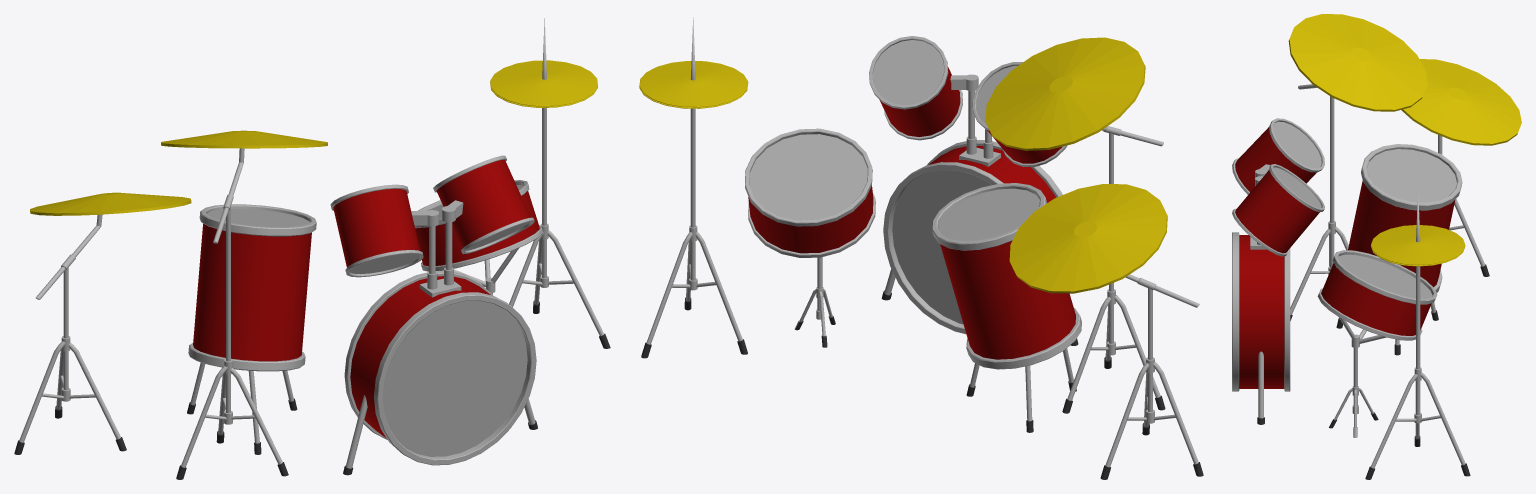
The model's file is drum_grouped1.fbx.
The picture shows the model from 3 angles, left to right: view 1: azimuth 30°, elevation 25°; view 2: azimuth 150°, elevation 25°; view 3: azimuth 270°, elevation 25°; orthographic projection. The views are drawn at different scales.
Parts seen in each view (by area): view 1: pCylinder1, pCylinder9, low_tom, high_tom, pCylinder8, pCylinder23, pCylinder26, pCylinder10, pCylinder33, pCylinder5, polySurface4, pCylinder3 (+2 smaller); view 2: pCylinder9, pCylinder10, pCylinder3, pCylinder5, pCylinder1, high_tom, pCylinder8, pCylinder33, pCylinder26, pCylinder23, low_tom, polySurface4 (+2 smaller); view 3: pCylinder3, pCylinder9, pCylinder1, pCylinder10, pCylinder5, high_tom, low_tom, pCylinder8, pCylinder33, pCylinder23, pCylinder40, pCylinder26 (+1 smaller).
Boxes of the visible parts, x1,y1,x2,y2 form: pCylinder1: (344, 271, 536, 465); pCylinder9: (188, 204, 316, 371); low_tom: (330, 184, 423, 277); high_tom: (433, 155, 534, 254); pCylinder8: (490, 60, 597, 107); pCylinder23: (176, 148, 288, 479); pCylinder26: (14, 214, 126, 454); pCylinder10: (414, 180, 542, 271); pCylinder33: (509, 18, 610, 348); pCylinder5: (30, 192, 191, 215); polySurface4: (411, 200, 463, 297); pCylinder3: (161, 130, 327, 148); pCylinder9: (932, 183, 1081, 369); pCylinder10: (745, 128, 875, 257); pCylinder3: (985, 37, 1145, 150); pCylinder5: (1009, 184, 1167, 293); pCylinder1: (883, 140, 1062, 334); high_tom: (869, 36, 962, 140); pCylinder8: (639, 61, 748, 108); pCylinder33: (641, 17, 747, 358); pCylinder26: (1100, 274, 1203, 479); pCylinder23: (1062, 126, 1165, 413); low_tom: (972, 62, 1067, 166); polySurface4: (950, 74, 1000, 166); pCylinder3: (1288, 14, 1427, 111); pCylinder9: (1348, 144, 1462, 292); pCylinder1: (1232, 232, 1290, 391); pCylinder10: (1317, 250, 1437, 340); pCylinder5: (1401, 59, 1521, 145); high_tom: (1232, 164, 1324, 256); low_tom: (1232, 118, 1324, 194); pCylinder8: (1371, 225, 1465, 266); pCylinder33: (1365, 185, 1470, 479); pCylinder23: (1290, 84, 1348, 320); pCylinder40: (1329, 317, 1386, 437); pCylinder26: (1438, 135, 1489, 276).
Size of the model in its own units: 58.33 by 33.04 by 29.83.
